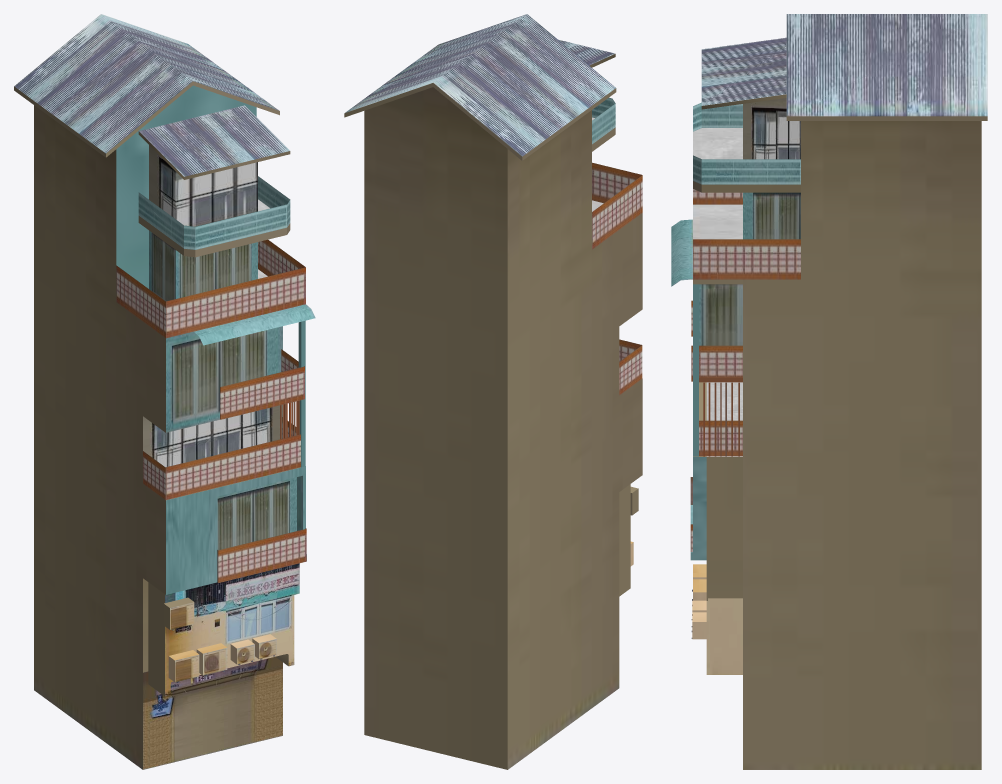
3 views of the same model, side by side, from view 1: azimuth 30°, elevation 25°; view 2: azimuth 150°, elevation 25°; view 3: azimuth 270°, elevation 25° (orthographic). The views are drawn at different scales.
Visible parts, largest first — view 1: HN973_TetBar_Leucoffee; view 2: HN973_TetBar_Leucoffee; view 3: HN973_TetBar_Leucoffee.
Part boxes in pixels (x1=…): HN973_TetBar_Leucoffee: x1=14, y1=14, x2=315, y2=769; HN973_TetBar_Leucoffee: x1=344, y1=14, x2=642, y2=769; HN973_TetBar_Leucoffee: x1=671, y1=14, x2=987, y2=769.
Bounding box in the file's own units: 6.74 × 24.33 × 9.71.
1 material, 1 textured.
